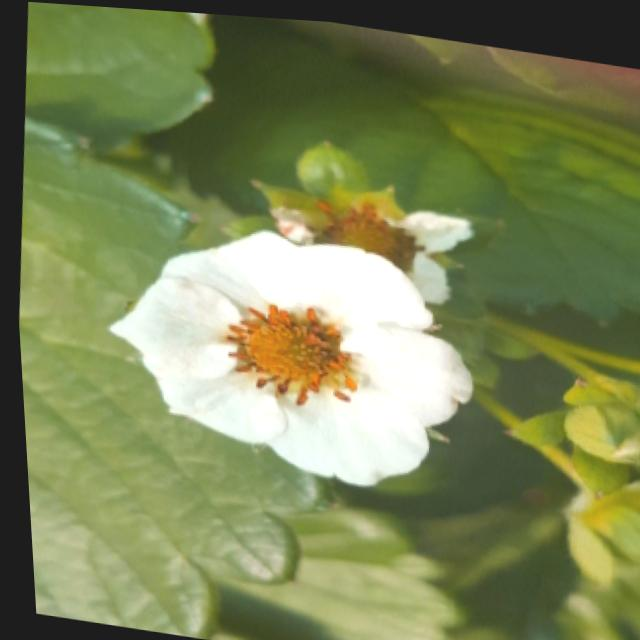Blossom Blight: (214, 294, 358, 408)
